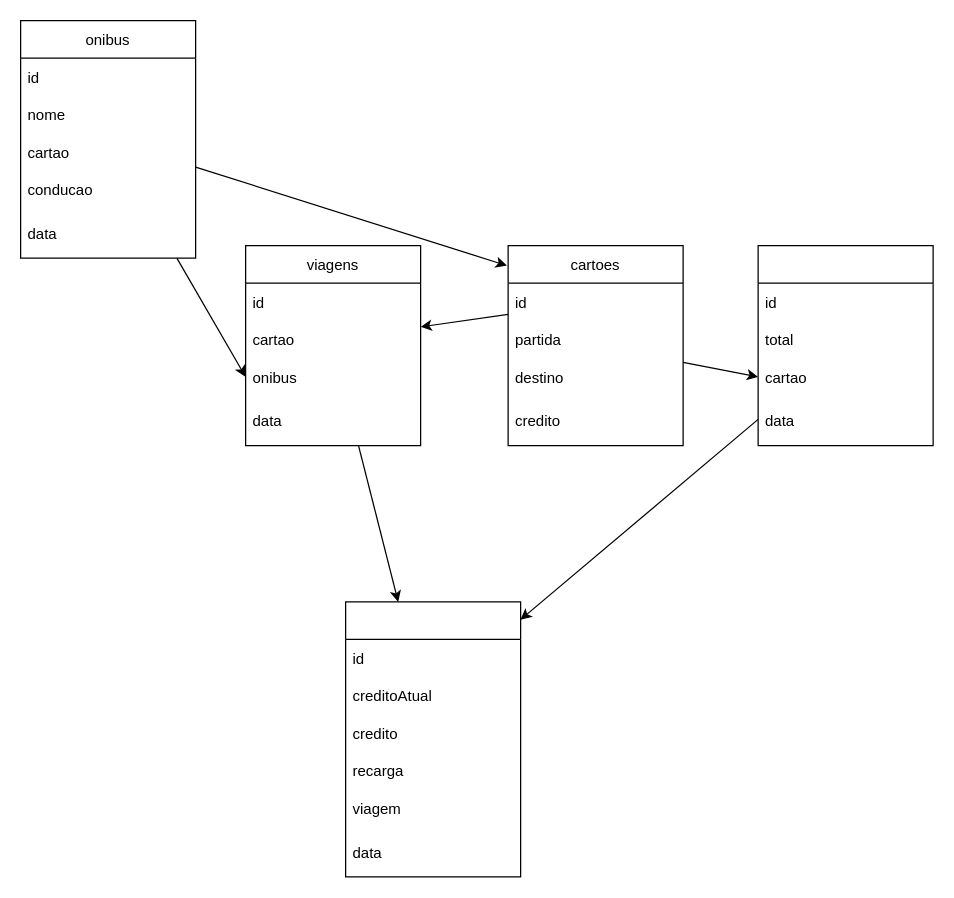
Image size: 954x898. Some labels were removed from this diagram. Each missing label, with the box of its shape:
logs: (344, 601, 521, 877)
recargas: (757, 244, 933, 446)
